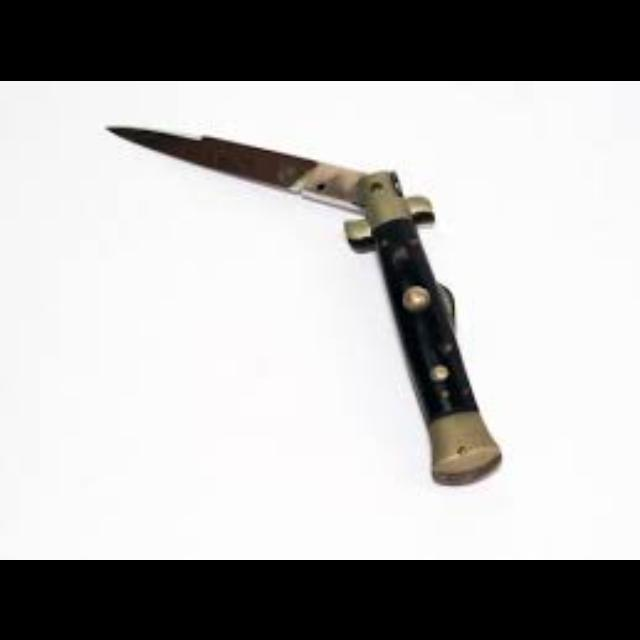Knife: (104, 122, 502, 482)
